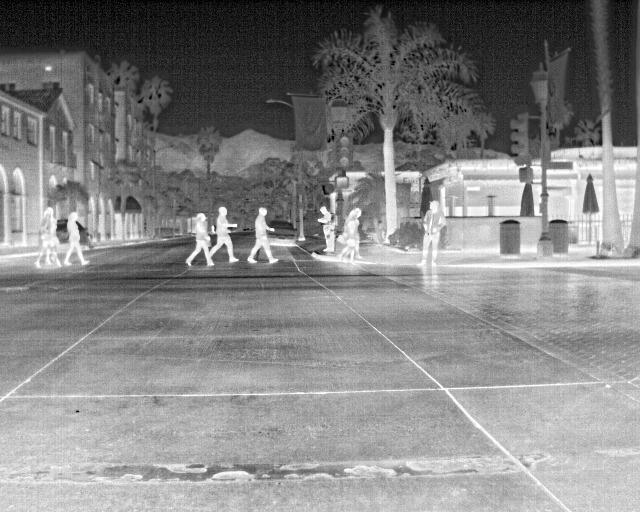bicycle: (269, 218, 297, 244)
empty: (243, 204, 278, 265), (415, 197, 445, 267), (62, 208, 95, 267), (210, 203, 238, 266), (182, 211, 212, 269), (34, 205, 58, 269), (338, 205, 361, 261), (314, 206, 338, 257)
